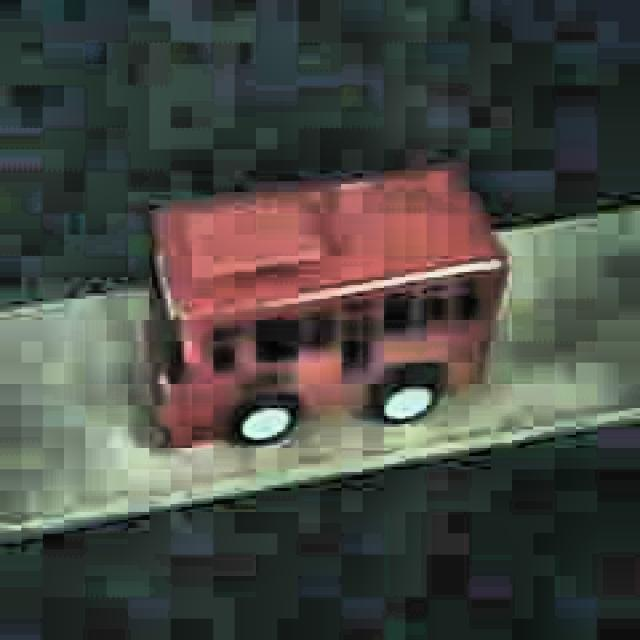bus: (146, 163, 508, 453)
